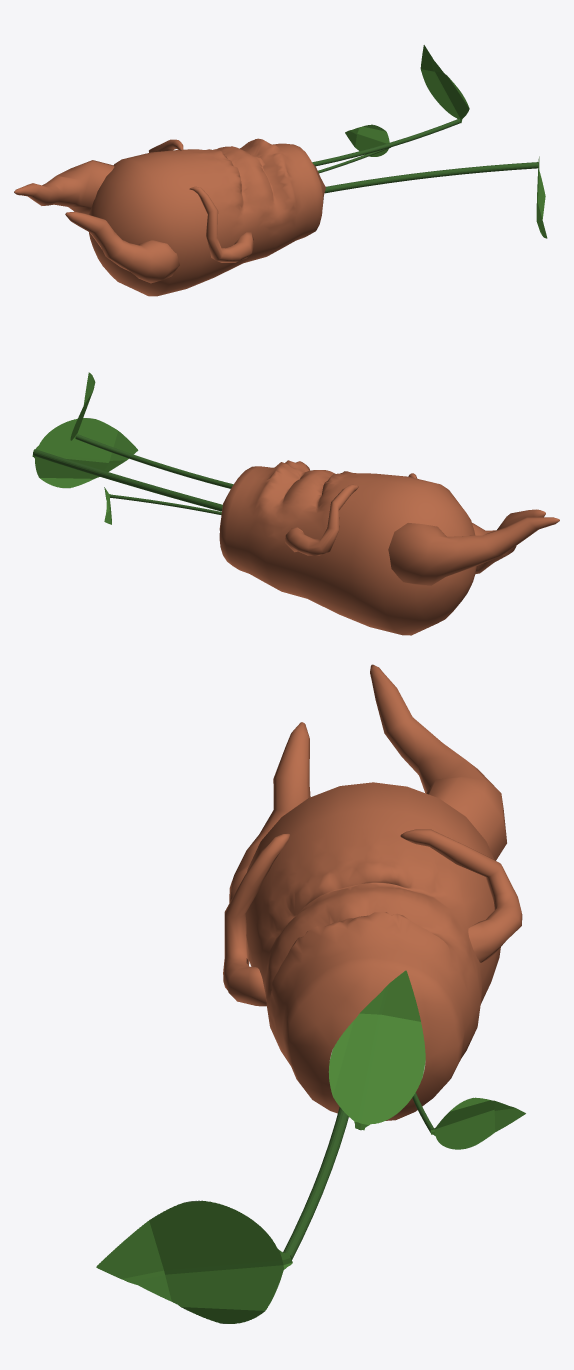
Rendered from Mandragora_Cozinha_Inicial (1).fbx.
3 renders of one model, top to bottom at view 1: azimuth 30°, elevation 25°; view 2: azimuth 150°, elevation 25°; view 3: azimuth 270°, elevation 25°, orthographic. The views are drawn at different scales.
Visible parts, largest first — view 1: Cylinder.001; view 2: Cylinder.001; view 3: Cylinder.001.
Part boxes in pixels (x1,y1,x2,y2): Cylinder.001: (14,45,547,296); Cylinder.001: (32,372,559,635); Cylinder.001: (96,664,525,1323).
Bounding box in the file's own units: 168 × 70.26 × 84.21.
3 materials, 1 textured.
